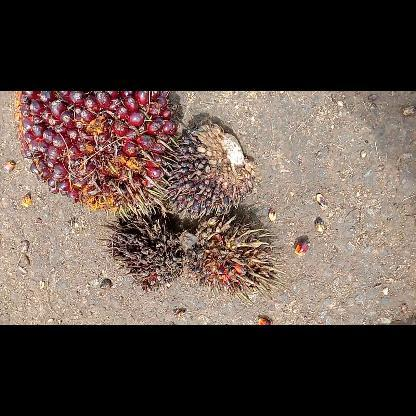TBS abnormal: (140, 122, 256, 214), (180, 212, 292, 306), (100, 204, 184, 292)
TBS masak: (11, 92, 179, 214)
